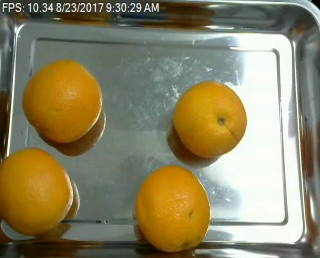Orange: (22, 59, 104, 143), (135, 166, 211, 251), (1, 148, 74, 233), (173, 80, 248, 157)
